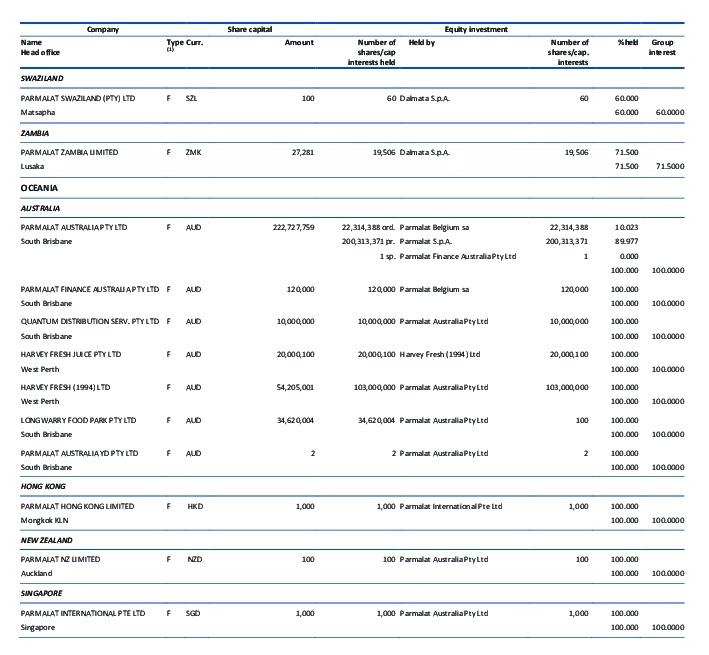table: (0, 0, 709, 655)
